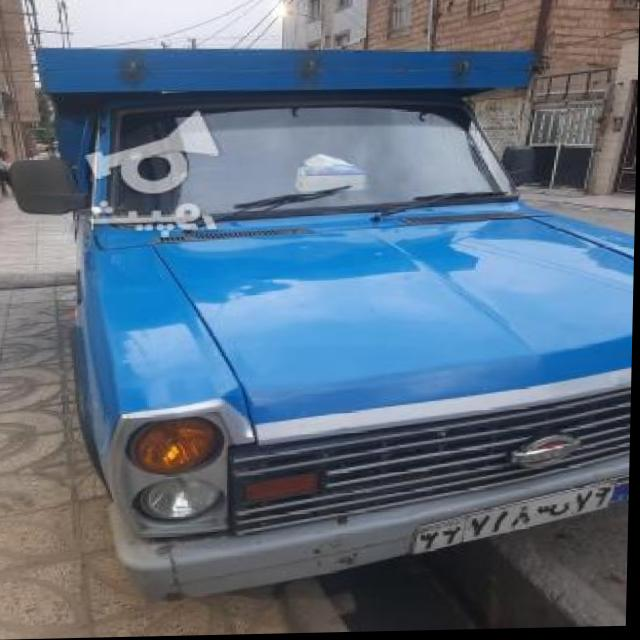licence: (415, 479, 631, 559)
